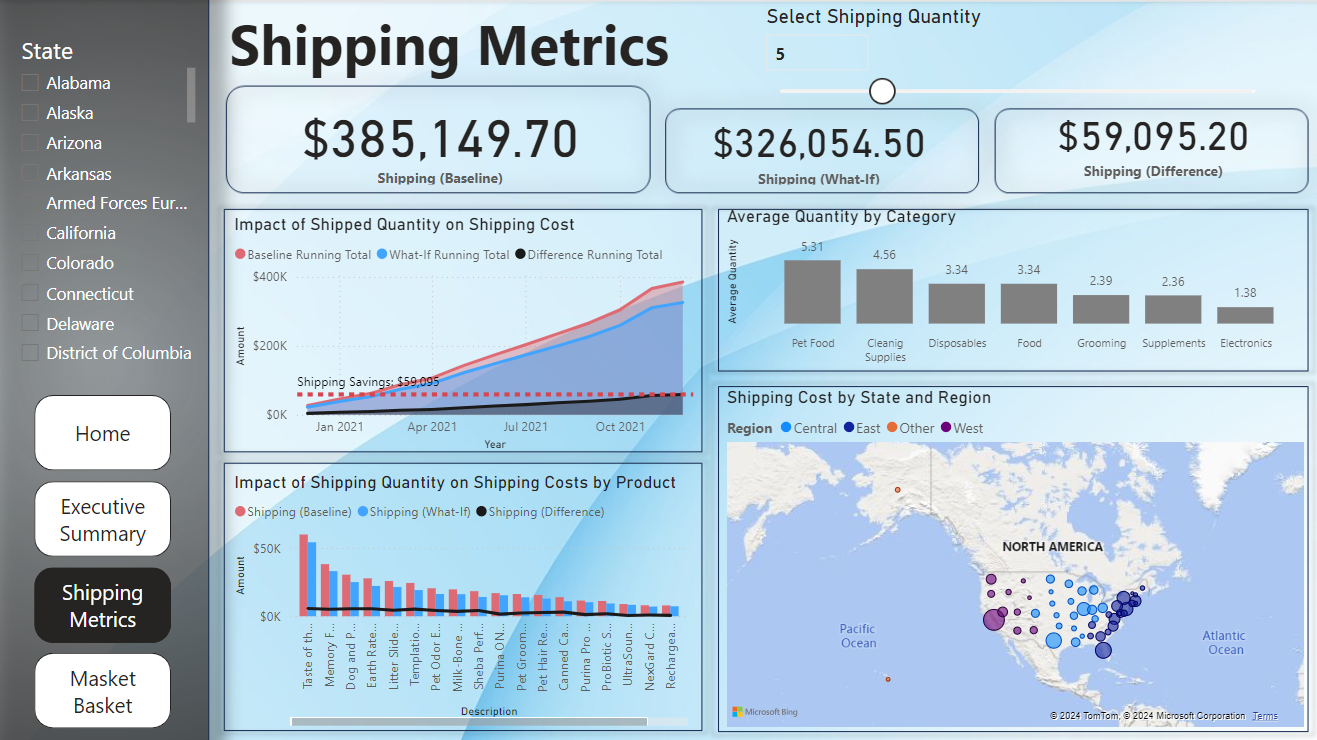

The dashboard page shown, as its layout file describes it:
{"tool":"powerbi","page":{"name":"Shipping Metrics","canvas":[1280,720],"ordinal":6},"visuals":[{"type":"slicer","fields":{"Values":["What-If Quantity.What-If Quantity"]},"box":[728.7,0,505.5,206.3],"z":0},{"type":"lineClusteredColumnComboChart","title":"Impact of Shipping Quantity on Shipping Costs by Product","fields":{"Category":["Sales.Description"],"Y":["_Measures.Shipping (Baseline)","_Measures.Shipping (What-If)"],"Y2":["_Measures.Shipping (Difference)"]},"box":[223.2,454.8,447.6,250.9],"z":1000},{"type":"card","fields":{"Values":["_Measures.Shipping (Baseline)"]},"box":[226.8,89.3,400.5,94.1],"z":2000},{"type":"card","fields":{"Values":["_Measures.Shipping (What-If)"]},"box":[653.9,103.8,277.5,79.6],"z":3000},{"type":"card","fields":{"Values":["_Measures.Shipping (Difference)"]},"box":[963.9,89.3,302.8,94.1],"z":4000},{"type":"areaChart","title":"Impact of Shipped Quantity on Shipping Cost","fields":{"Category":["Sales.Transaction Date.Variation.Date Hierarchy.Year","Sales.Transaction Date.Variation.Date Hierarchy.Month"],"Y":["_Measures.Baseline Running Total","_Measures.What-If Running Total","_Measures.Difference Running Total"]},"box":[223.2,206.3,466.9,234],"z":5000},{"type":"clusteredColumnChart","title":"Average Quantity by Category","fields":{"Category":["Products.Category"],"Y":["Avg(Sales.Quantity)"]},"box":[698.5,197.9,567,161.7],"z":6000},{"type":"map","title":"Shipping Cost by State and Region","fields":{"Category":["State Mapping.State"],"Series":["State Mapping.Region"],"Size":["_Measures.Shipping (Baseline)"]},"box":[698.5,372.8,567,334.2],"z":7000},{"type":"textbox","box":[200.3,0,470.5,89.3],"z":8000},{"type":"pageNavigator","box":[35,381.2,132.7,323.3],"z":9000},{"type":"slicer","fields":{"Values":["State Mapping.State"]},"box":[9.7,27.7,185.8,331.8],"z":10000}]}

Visuals, with their boxes on the page's 1280x720 design canvas (x1, y1, x2, y2). These are canvas units, not pixel positions in the 1317x740 screenshot, which may show the page scaled, cropped or inside an application window:
slicer - What-If Quantity.What-If Quantity: (x1=729, y1=0, x2=1234, y2=206)
"Impact of Shipping Quantity on Shipping Costs by Product" lineClusteredColumnComboChart: (x1=223, y1=455, x2=671, y2=706)
card - _Measures.Shipping (Baseline): (x1=227, y1=89, x2=627, y2=183)
card - _Measures.Shipping (What-If): (x1=654, y1=104, x2=931, y2=183)
card - _Measures.Shipping (Difference): (x1=964, y1=89, x2=1267, y2=183)
"Impact of Shipped Quantity on Shipping Cost" areaChart: (x1=223, y1=206, x2=690, y2=440)
"Average Quantity by Category" clusteredColumnChart: (x1=698, y1=198, x2=1266, y2=360)
"Shipping Cost by State and Region" map: (x1=698, y1=373, x2=1266, y2=707)
textbox: (x1=200, y1=0, x2=671, y2=89)
pageNavigator: (x1=35, y1=381, x2=168, y2=704)
slicer - State Mapping.State: (x1=10, y1=28, x2=196, y2=360)
